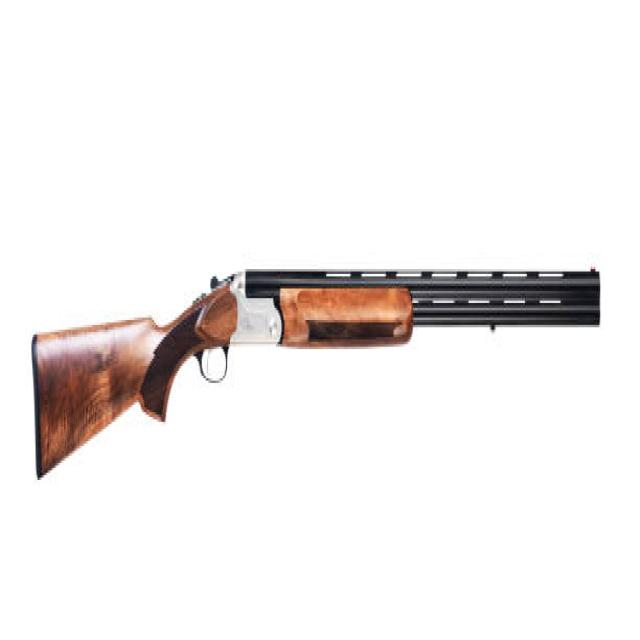rifle: (24, 250, 607, 490)
